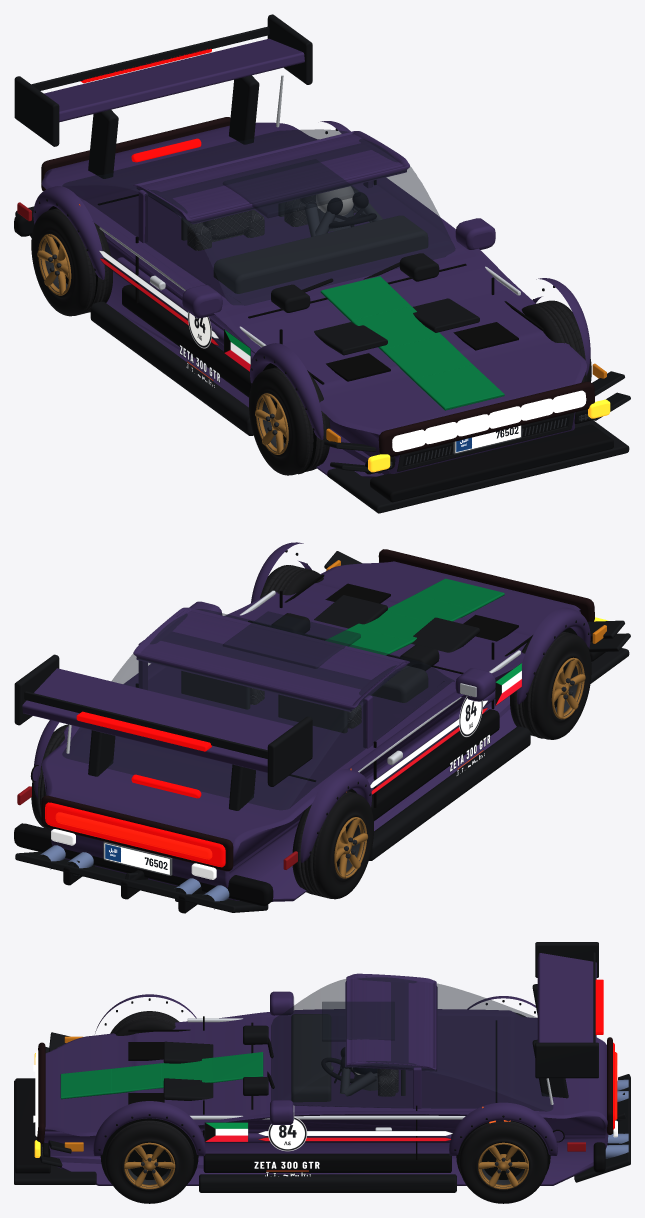
Rendered from zeta-300-gtr.glb.
3 views of the same model, one above another, from view 1: azimuth 30°, elevation 25°; view 2: azimuth 150°, elevation 25°; view 3: azimuth 270°, elevation 25° (orthographic). The views are drawn at different scales.
Parts seen in each view (by area): view 1: object 1, object 2, wing, object 3, object 134, object 125, object 34, object 176, object 38, object 70, object 167, object 112 (+27 smaller); view 2: object 1, object 2, wing, object 3, tail-lamps, object 176, object 34, object 70, object 38, object 112, object 102, object 178 (+34 smaller); view 3: object 1, object 2, wing, object 3, object 177, object 118, object 54, object 86, object 134, object 34, object 60, object 92 (+30 smaller).
Part boxes in pixels (bbox=[...]): object 1: bbox=[41, 122, 586, 478]; object 2: bbox=[62, 129, 455, 305]; wing: bbox=[14, 14, 312, 146]; object 3: bbox=[133, 131, 409, 224]; object 134: bbox=[213, 215, 428, 293]; object 125: bbox=[370, 424, 613, 502]; object 34: bbox=[223, 159, 360, 218]; object 176: bbox=[90, 301, 253, 435]; object 38: bbox=[249, 367, 330, 475]; object 70: bbox=[31, 208, 112, 316]; object 167: bbox=[327, 420, 629, 513]; object 112: bbox=[122, 284, 251, 397]; object 1: bbox=[41, 561, 580, 901]; object 2: bbox=[62, 609, 454, 810]; wing: bbox=[14, 654, 312, 786]; object 3: bbox=[133, 607, 409, 711]; tail-lamps: bbox=[41, 795, 233, 871]; object 176: bbox=[369, 726, 530, 860]; object 34: bbox=[222, 611, 360, 668]; object 70: bbox=[292, 791, 373, 899]; object 38: bbox=[510, 632, 591, 739]; object 112: bbox=[371, 709, 499, 820]; object 102: bbox=[14, 823, 273, 906]; object 178: bbox=[15, 851, 268, 912]; object 1: bbox=[42, 1009, 608, 1185]; object 2: bbox=[271, 977, 553, 1111]; wing: bbox=[535, 942, 603, 1078]; object 3: bbox=[345, 973, 437, 1071]; object 177: bbox=[199, 1174, 456, 1192]; object 118: bbox=[203, 1153, 451, 1172]; object 54: bbox=[105, 1120, 193, 1203]; object 86: bbox=[459, 1121, 547, 1203]; object 134: bbox=[291, 1014, 331, 1102]; object 34: bbox=[322, 1001, 394, 1041]; object 60: bbox=[93, 1101, 205, 1155]; object 92: bbox=[449, 1102, 557, 1155].
Bounding box in the file's own units: 2.09 × 1.25 × 4.53.
Materials: 48 (10 with a texture image).
